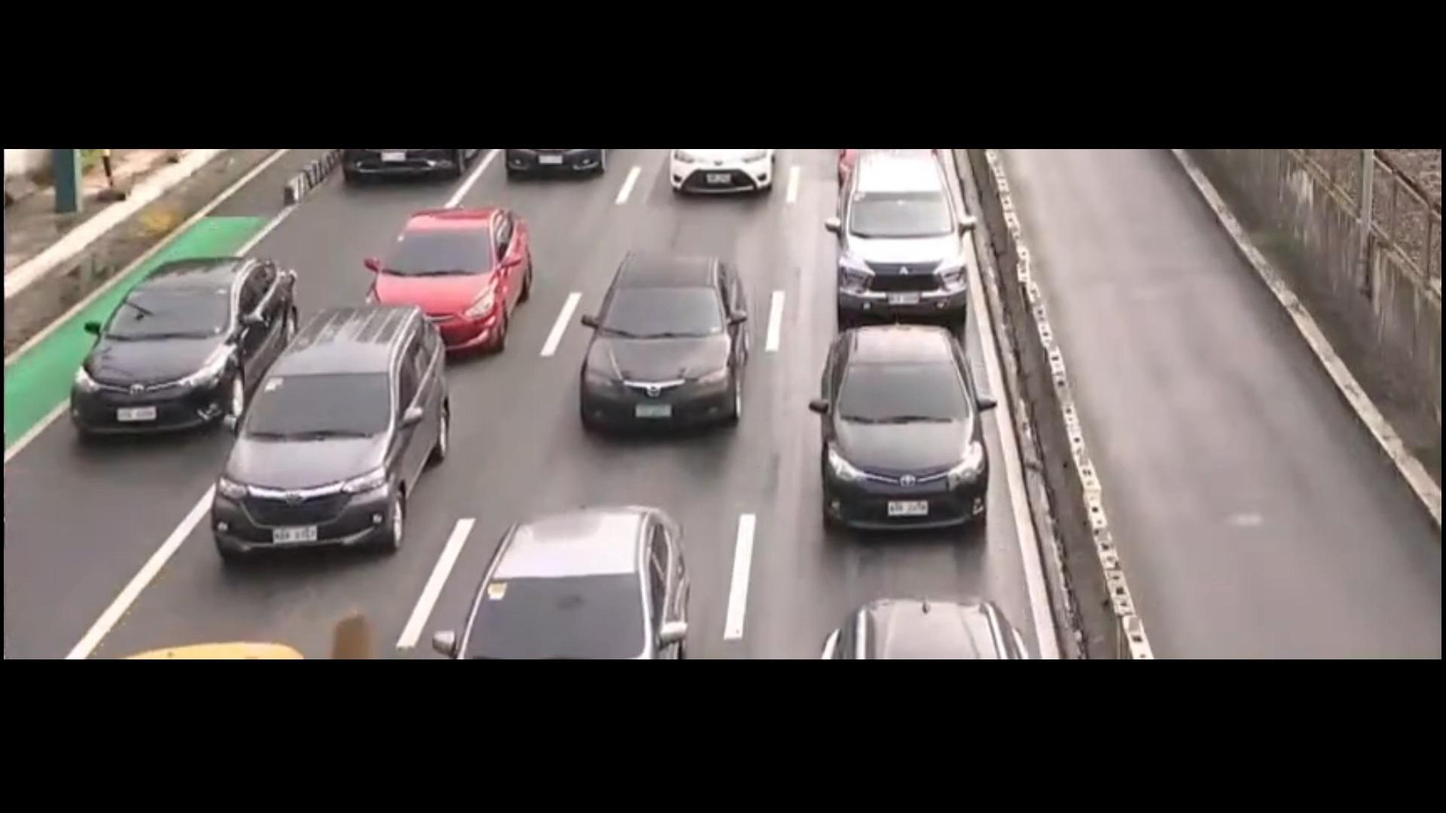SUV: (206, 281, 464, 553), (829, 142, 977, 324)
Sedan: (436, 460, 740, 660), (64, 230, 302, 441), (802, 315, 1000, 536), (582, 239, 757, 437), (361, 203, 539, 352)
